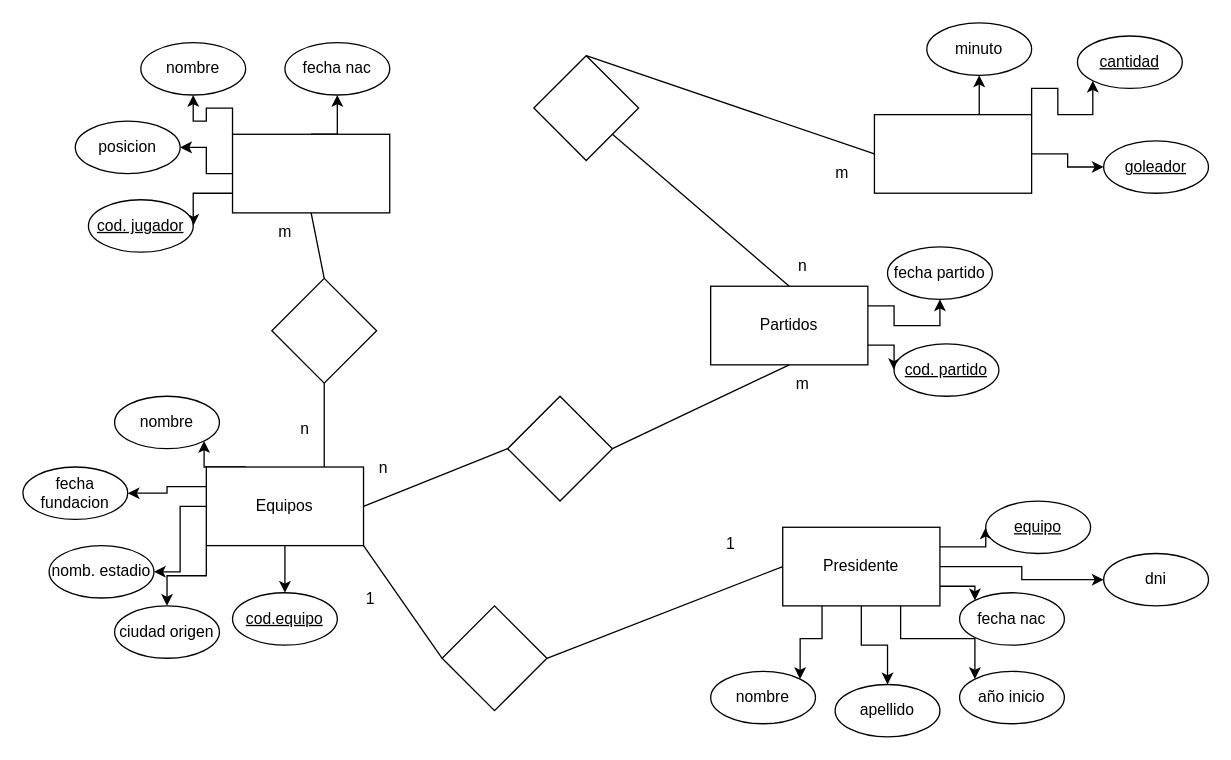
Image size: 1231x760. Some labels were removed from this diagram. Here are the shapes that lost their labels. From the top down, the box of each, then its label:
(533, 54, 639, 160): Convierten
(231, 133, 390, 213): Jugadores
(873, 113, 1032, 193): Goles
(271, 277, 377, 383): Participan
(506, 395, 612, 501): Juegan
(441, 605, 547, 711): preside
